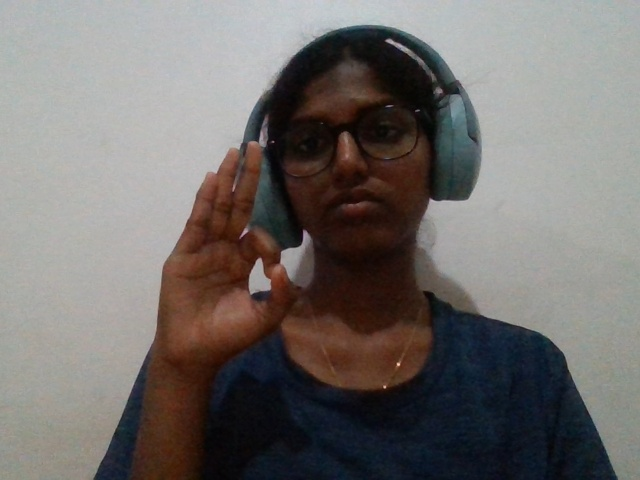F: (105, 123, 311, 440)
